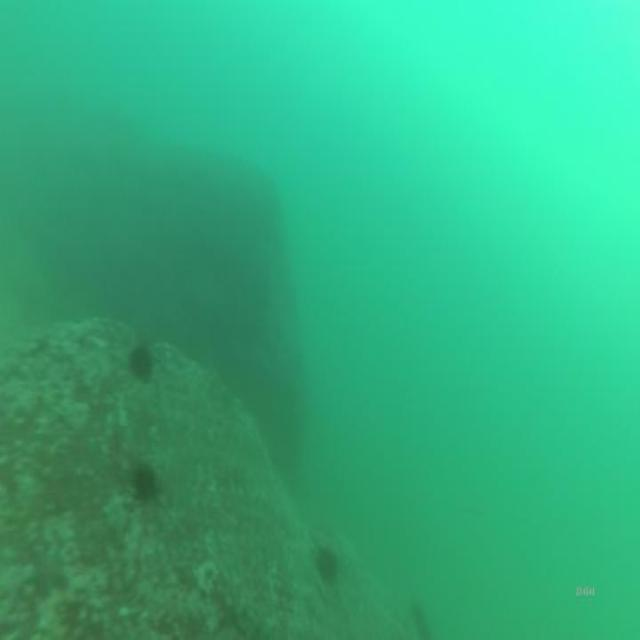echinus: (131, 452, 160, 510), (314, 539, 342, 594), (126, 338, 156, 387), (408, 600, 431, 640)
